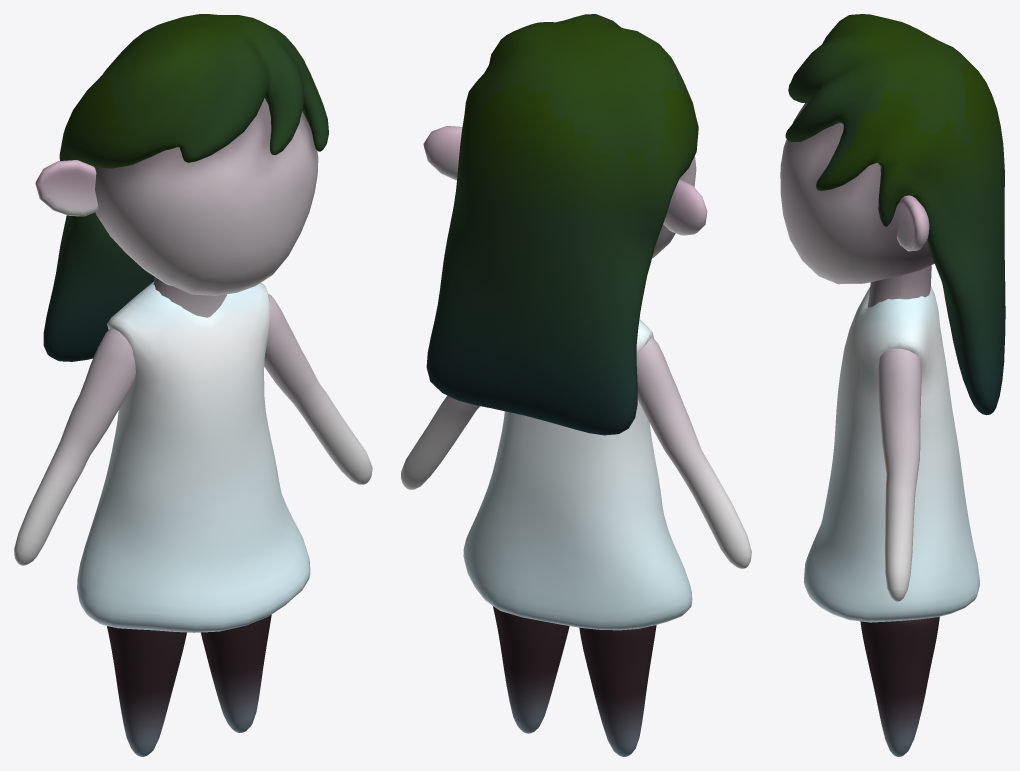
The model's file is SK_GIRL_NEW USE THIS.fbx.
The picture shows the model from 3 angles, left to right: view 1: azimuth 30°, elevation 25°; view 2: azimuth 150°, elevation 25°; view 3: azimuth 270°, elevation 25°; orthographic projection. The views are drawn at different scales.
Visible parts, largest first — view 1: girl_low; view 2: girl_low; view 3: girl_low.
Part boxes in pixels (box(x1,y1,x2,y2)): girl_low: box(14, 14, 372, 756); girl_low: box(401, 14, 751, 756); girl_low: box(780, 14, 1005, 756).
Bounding box in the file's own units: 94.72 × 184 × 53.42.
